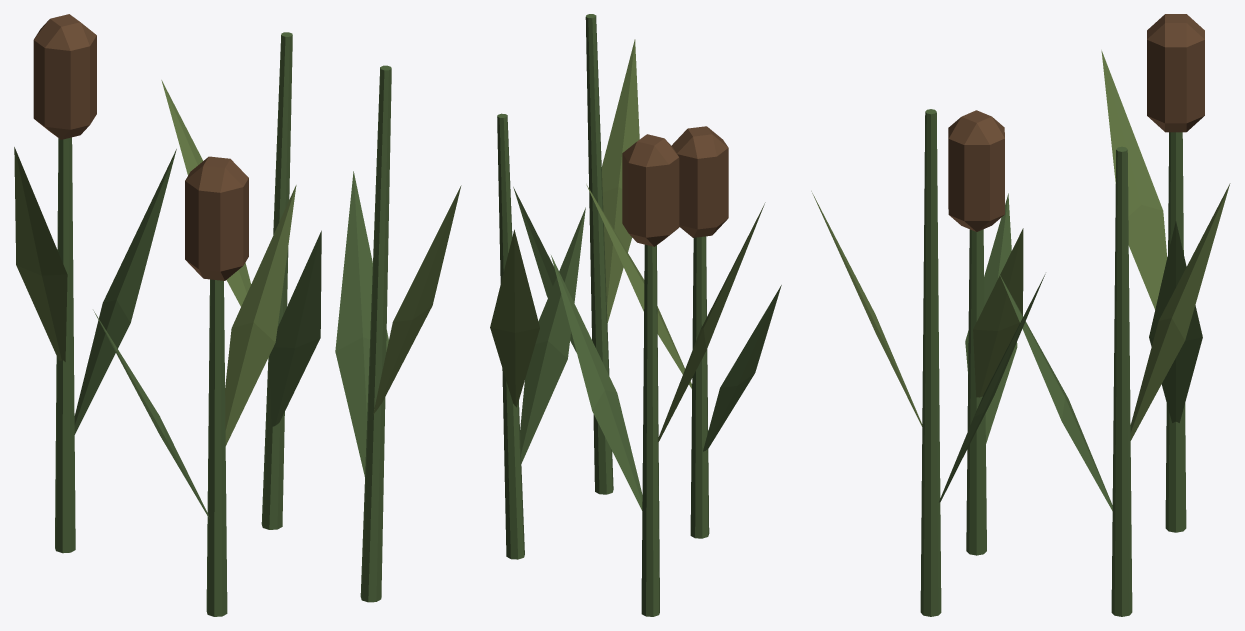
File: reeds_1_summer.glb
The picture shows the model from 3 angles, left to right: view 1: azimuth 30°, elevation 25°; view 2: azimuth 150°, elevation 25°; view 3: azimuth 270°, elevation 25°; orthographic projection. The views are drawn at different scales.
Parts seen in each view (by area): view 1: reeds_1_summer; view 2: reeds_1_summer; view 3: reeds_1_summer.
Boxes of the visible parts, bbox=[...] form: reeds_1_summer: bbox=[14, 14, 461, 616]; reeds_1_summer: bbox=[490, 14, 781, 616]; reeds_1_summer: bbox=[811, 14, 1230, 616].
Bounding box in the file's own units: 0.8337 × 1.36 × 1.01.
